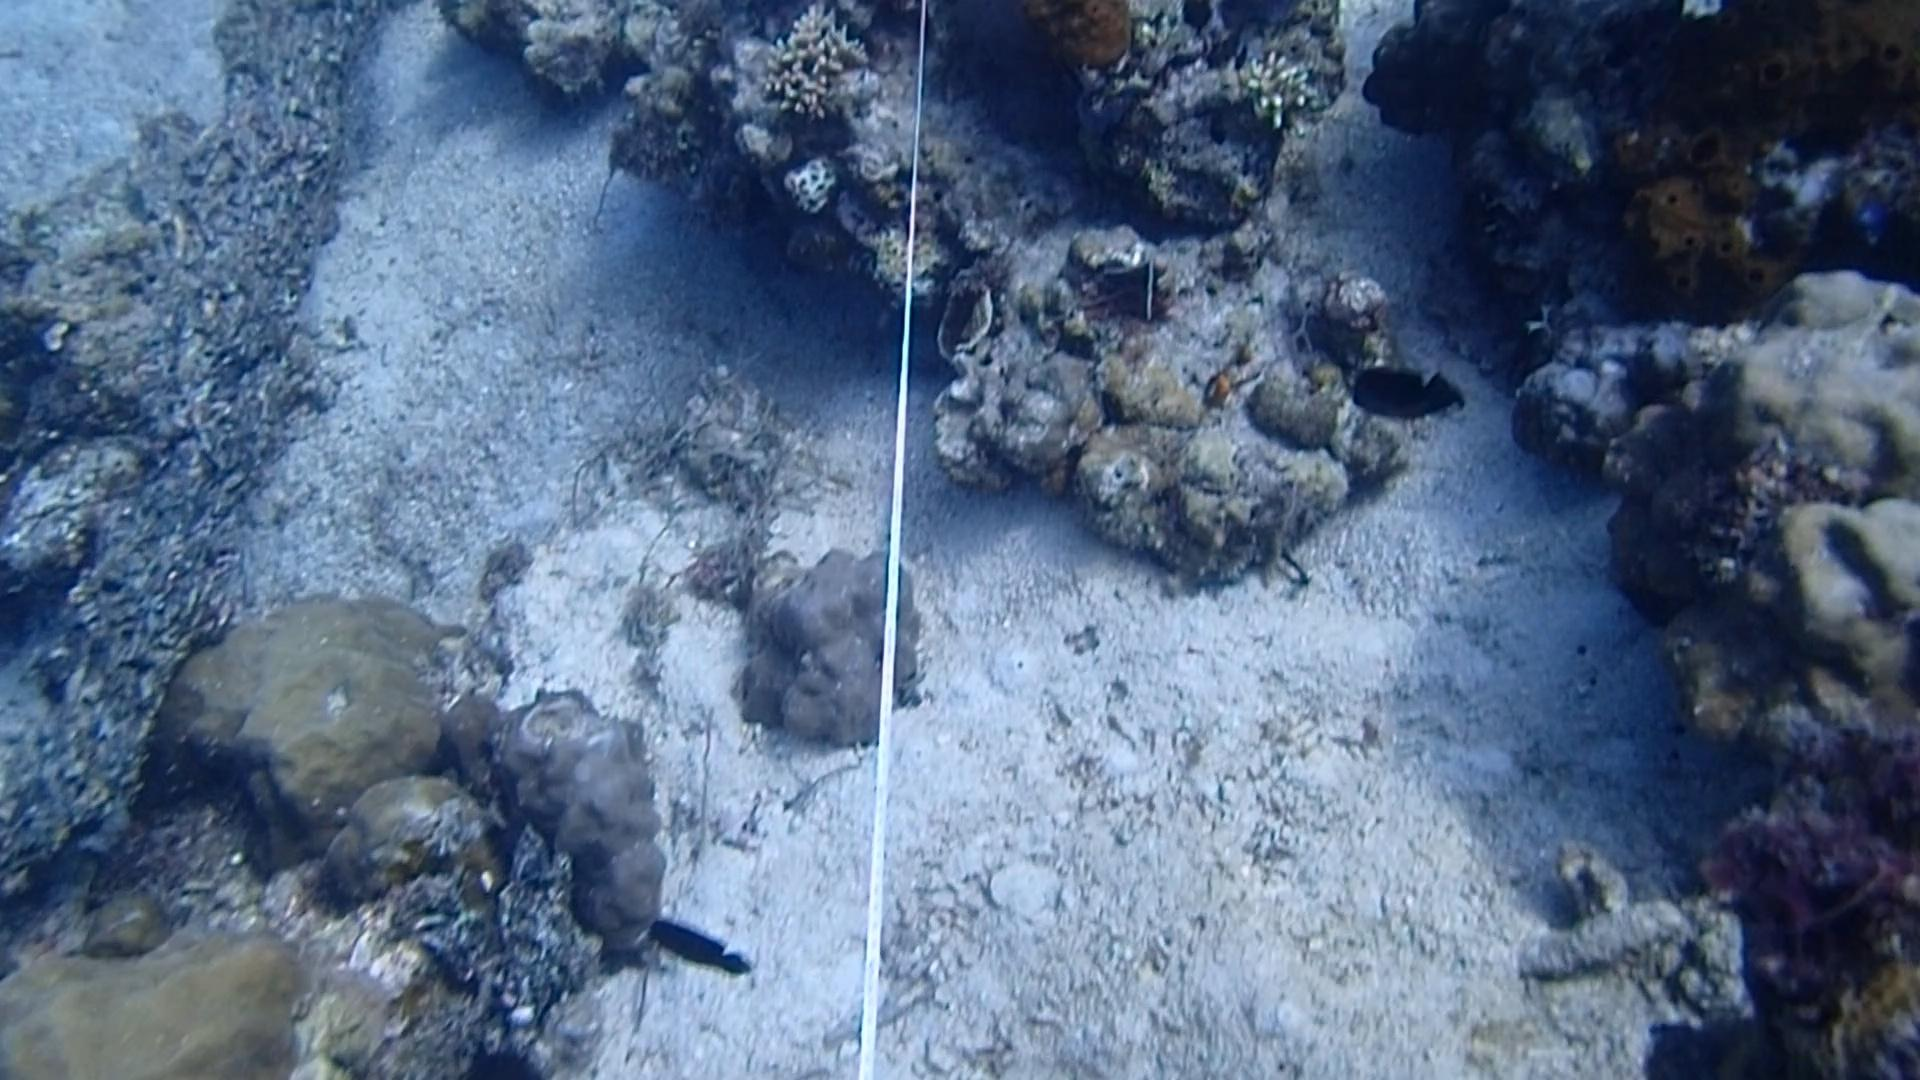Big Dark Blue Fish: (1337, 343, 1476, 436)
Dark Fish: (644, 909, 756, 993)
